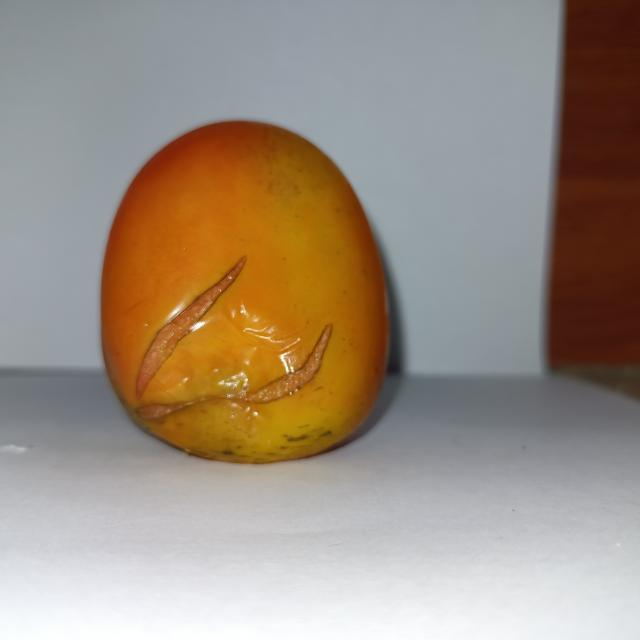Red: (98, 117, 391, 464)
